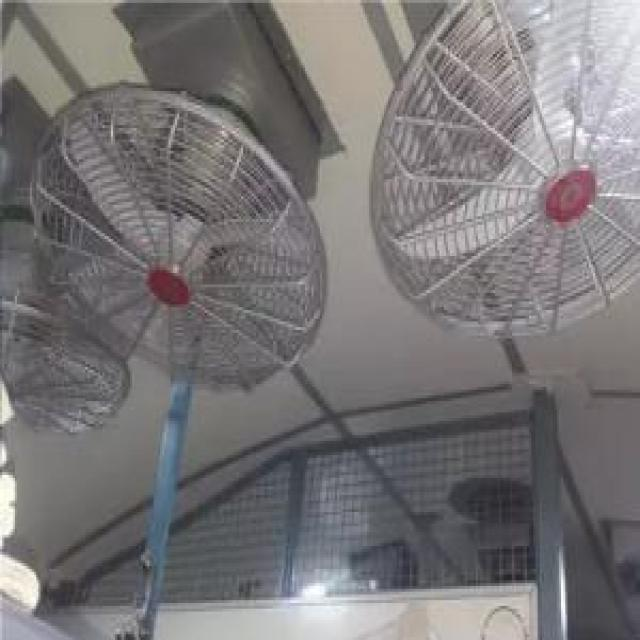Fan: (2, 61, 341, 392), (352, 0, 640, 331)
